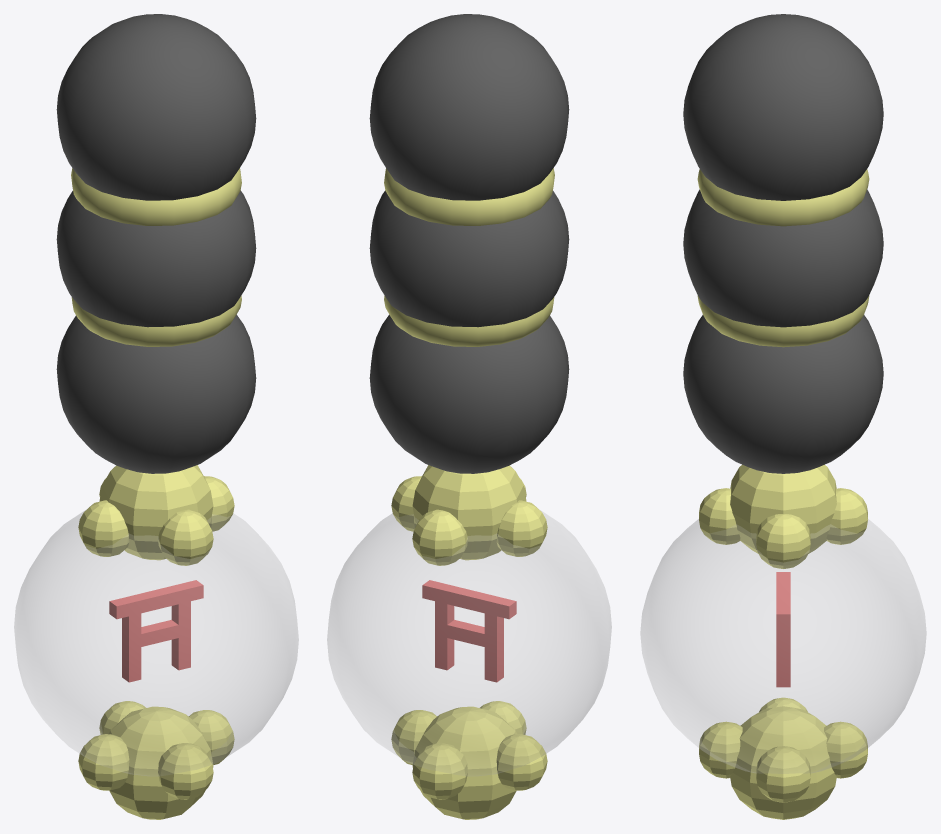
File: Sutorappu.fbx
3 views of the same model, side by side, from view 1: azimuth 30°, elevation 25°; view 2: azimuth 150°, elevation 25°; view 3: azimuth 270°, elevation 25° (orthographic).
Parts seen in each view (by area): view 1: pSphere1, pSphere14, pSphere11, pSphere13, uetama6, uetama5, uetama4 (×2), pTorus2, pTorus1, uetama1 (×2), uetama2, uetama3 (×2) (+4 smaller); view 2: pSphere1, pSphere14, pSphere11, pSphere13, uetama6, uetama5, uetama4 (×2), pTorus2, pTorus1, uetama2 (×2), uetama1, uetama3 (×2) (+4 smaller); view 3: pSphere1, pSphere14, pSphere11, pSphere13, uetama6, uetama5, uetama3 (×2), pTorus2, uetama1 (×2), uetama2 (×2), pTorus1, pCube1 (+1 smaller).
Part boxes in pixels (x1=…): pSphere1: x1=14, y1=509, x2=298, y2=775; pSphere14: x1=56, y1=14, x2=256, y2=200; pSphere11: x1=56, y1=314, x2=256, y2=473; pSphere13: x1=56, y1=190, x2=256, y2=327; uetama6: x1=108, y1=706, x2=213, y2=819; uetama5: x1=99, y1=465, x2=213, y2=560; uetama4 (×2): x1=78, y1=500, x2=129, y2=790; pTorus2: x1=71, y1=168, x2=241, y2=225; pTorus1: x1=71, y1=295, x2=241, y2=346; uetama1 (×2): x1=99, y1=509, x2=213, y2=734; uetama2: x1=158, y1=743, x2=213, y2=799; uetama3 (×2): x1=189, y1=476, x2=234, y2=764; pSphere1: x1=327, y1=509, x2=611, y2=775; pSphere14: x1=369, y1=14, x2=569, y2=200; pSphere11: x1=369, y1=314, x2=569, y2=473; pSphere13: x1=369, y1=190, x2=569, y2=327; uetama6: x1=412, y1=706, x2=517, y2=819; uetama5: x1=412, y1=465, x2=526, y2=560; uetama4 (×2): x1=496, y1=500, x2=547, y2=790; pTorus2: x1=384, y1=168, x2=554, y2=225; pTorus1: x1=384, y1=295, x2=554, y2=346; uetama2 (×2): x1=412, y1=509, x2=526, y2=734; uetama1: x1=412, y1=743, x2=467, y2=799; uetama3 (×2): x1=391, y1=476, x2=436, y2=764; pSphere1: x1=640, y1=519, x2=926, y2=773; pSphere14: x1=683, y1=14, x2=883, y2=200; pSphere11: x1=683, y1=315, x2=883, y2=473; pSphere13: x1=683, y1=189, x2=883, y2=327; uetama6: x1=730, y1=706, x2=836, y2=819; uetama5: x1=730, y1=464, x2=836, y2=553; uetama3 (×2): x1=756, y1=514, x2=810, y2=802; pTorus2: x1=697, y1=169, x2=869, y2=226; uetama1 (×2): x1=699, y1=488, x2=867, y2=778; uetama2 (×2): x1=699, y1=488, x2=867, y2=778; pTorus1: x1=697, y1=295, x2=869, y2=347; pCube1: x1=776, y1=627, x2=790, y2=687.
Size of the model in its own units: 1 by 3.05 by 1.
